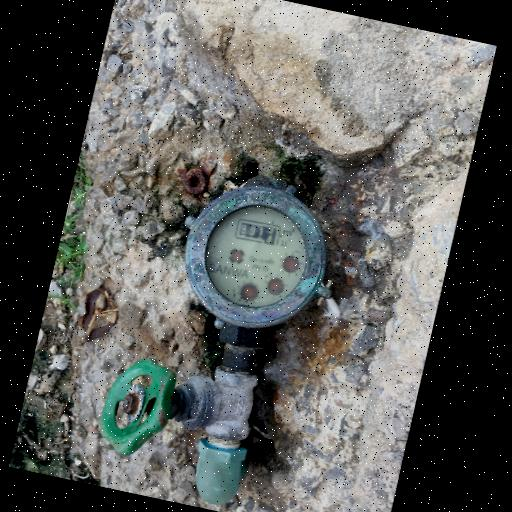1: (254, 224, 267, 240)
3: (263, 226, 277, 245)
9: (238, 221, 250, 237), (247, 223, 259, 239)
border_water_meter_number: (233, 217, 282, 247)
